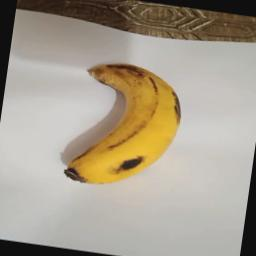Banana Unripe: (64, 54, 190, 208)
